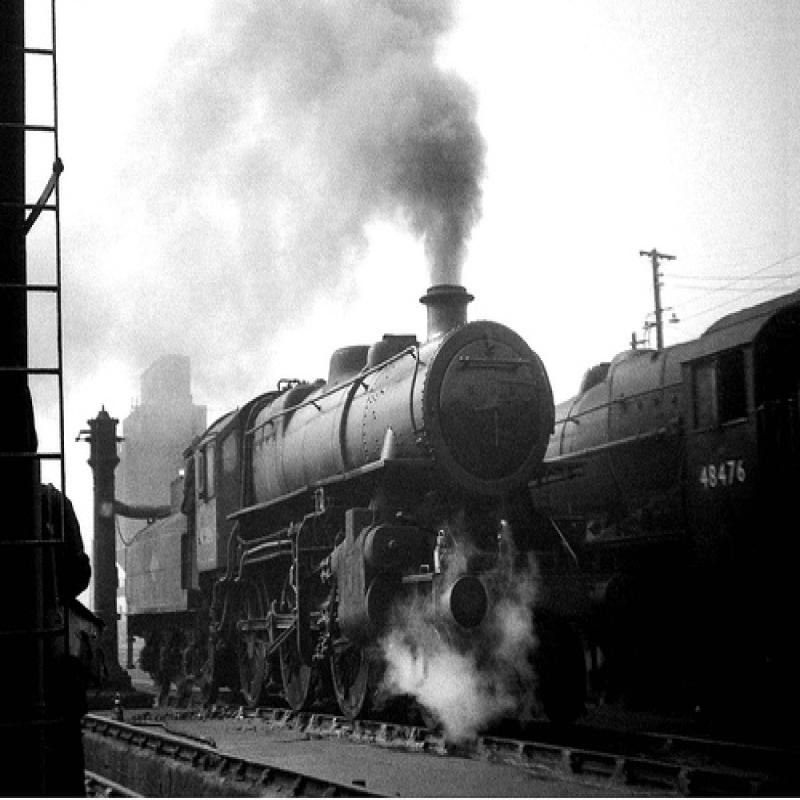train: (121, 286, 614, 736), (528, 290, 800, 724)
